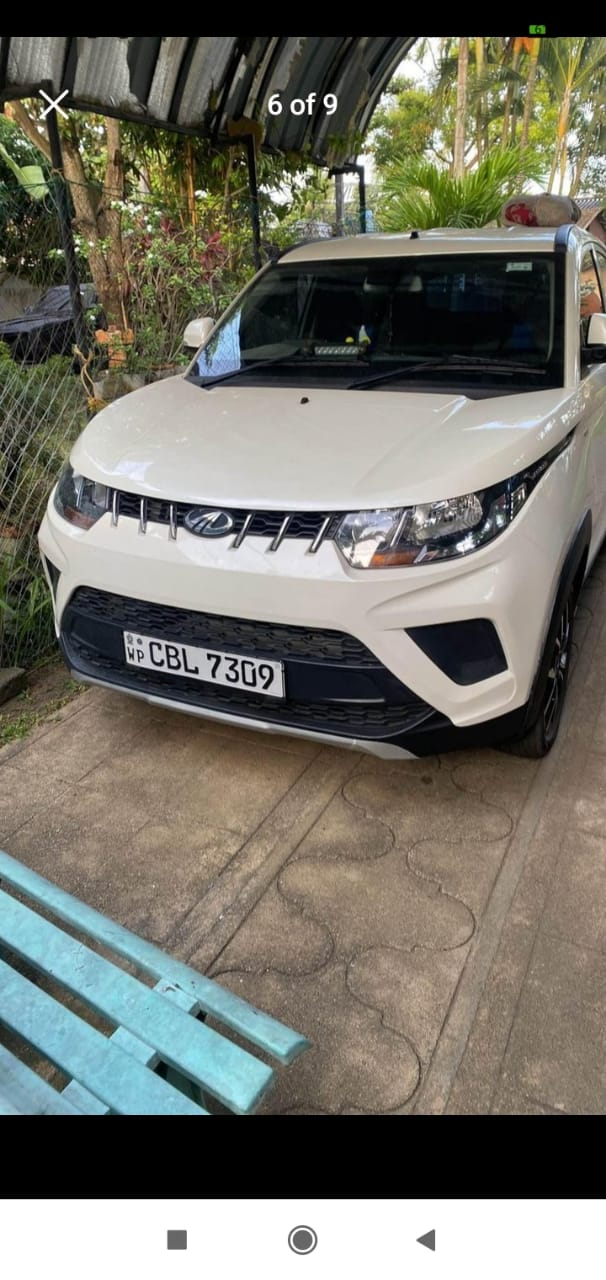number_plate: (116, 624, 287, 705)
